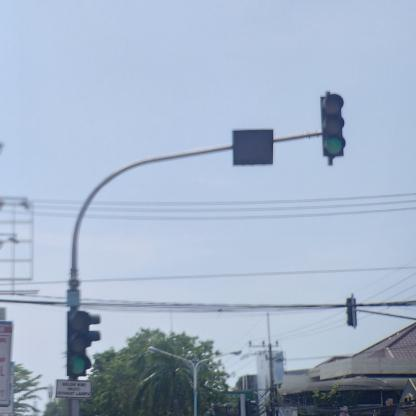green: (66, 314, 91, 377), (320, 95, 344, 157)
